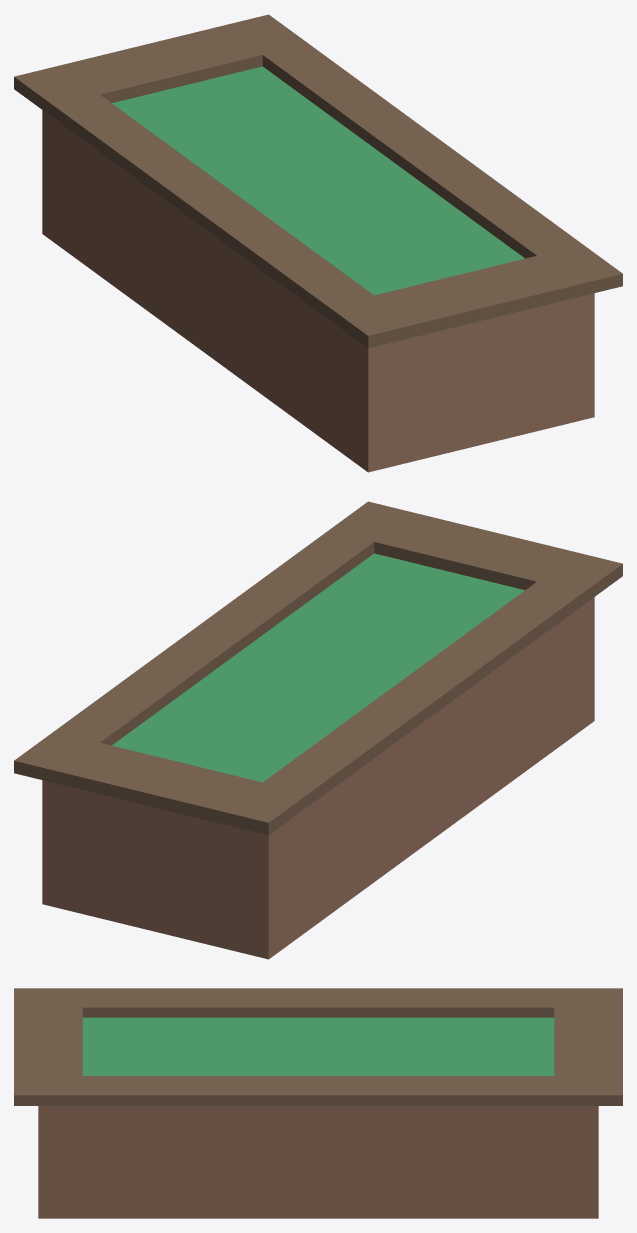
File: Planter Empty.fbx
3 renders of one model, top to bottom at view 1: azimuth 30°, elevation 25°; view 2: azimuth 150°, elevation 25°; view 3: azimuth 270°, elevation 25°, orthographic. The views are drawn at different scales.
Visible parts, largest first — view 1: Planter_Empty; view 2: Planter_Empty; view 3: Planter_Empty.
Boxes of the visible parts, x1,y1,x2,y2 form: Planter_Empty: [14, 14, 622, 472]; Planter_Empty: [14, 501, 622, 959]; Planter_Empty: [14, 988, 622, 1218].
Bounding box in the file's own units: 1.86 × 1.05 × 4.48.
